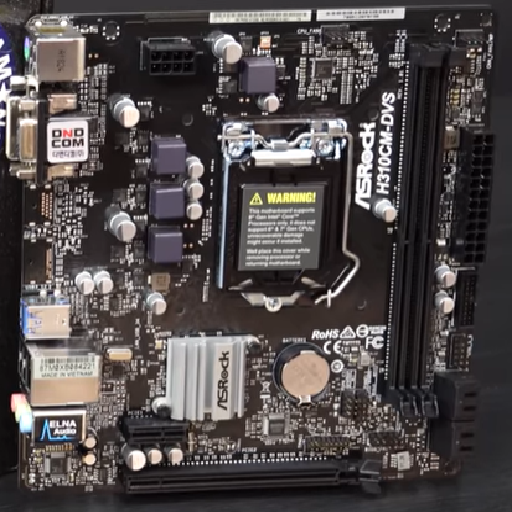CPU: (211, 112, 347, 308)
GPU: (121, 451, 383, 502)
MOTHERBOARD: (2, 8, 496, 491)
RAM: (380, 38, 450, 421)
